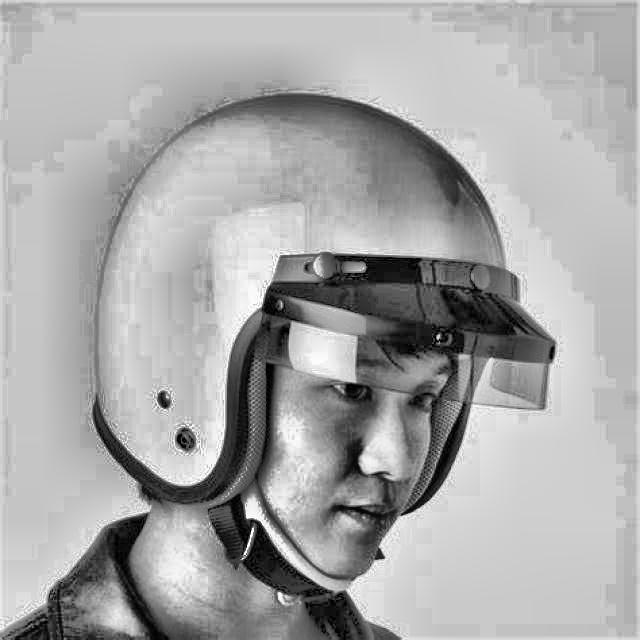Helmet: (85, 80, 563, 601)
